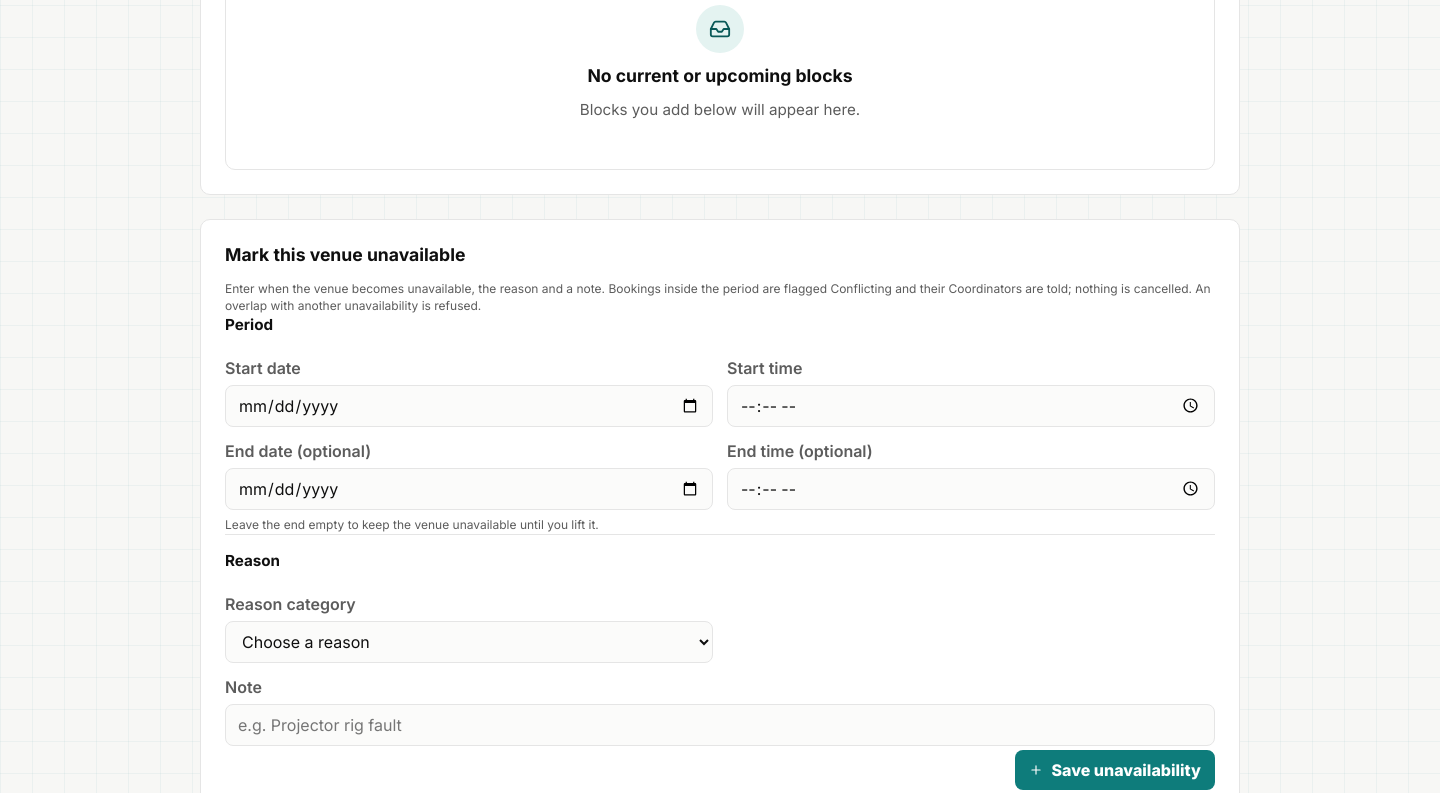
Test: TC_E05S04_02 superseded by TC_E05S06_02: saving over a confirmed booking succeeds instead of being refused (T-67)
(page scrolled)
Check: the text "No current or upcoming blocks" is shown, box [587,65,853,86]
In the date field labelled "Start date": (469, 406) [225,385,713,427], type "2027-01-14"
In the time field labelled "Start time": (971, 406) [727,385,1215,427], type "00:00"
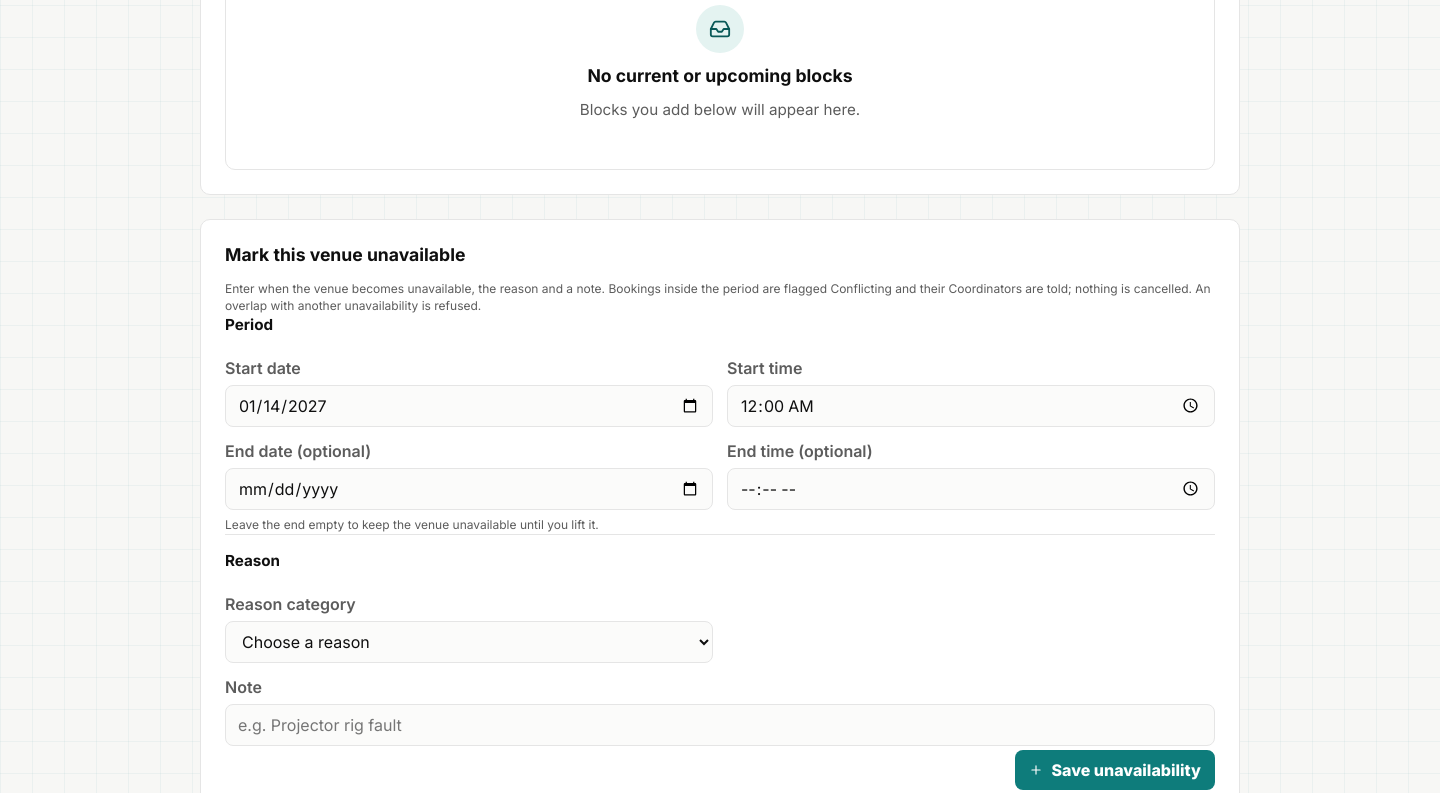
In the date field labelled "End date (optional)": (469, 489) [225,468,713,510], type "2027-01-17"
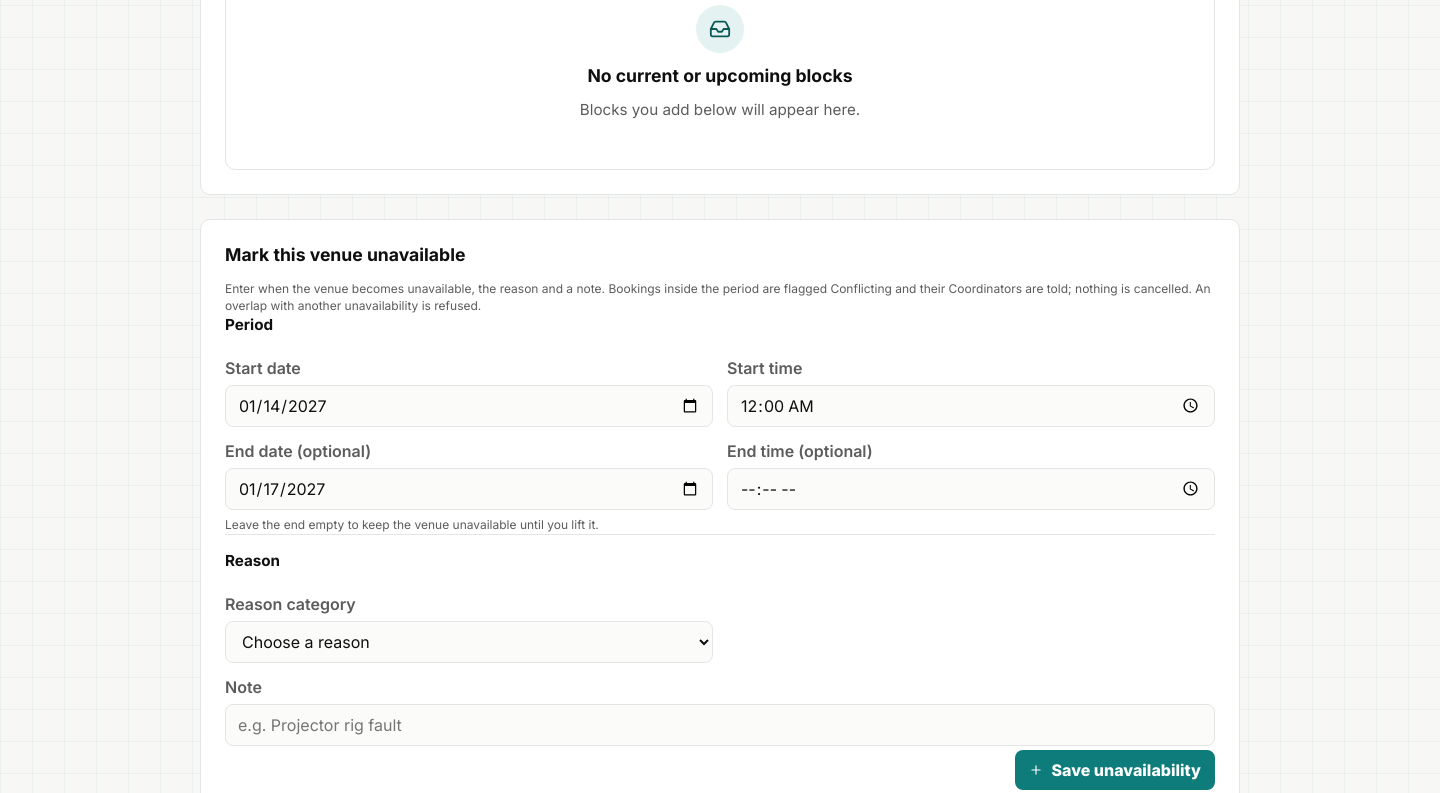
In the time field labelled "End time (optional)": (971, 489) [727,468,1215,510], type "00:00"
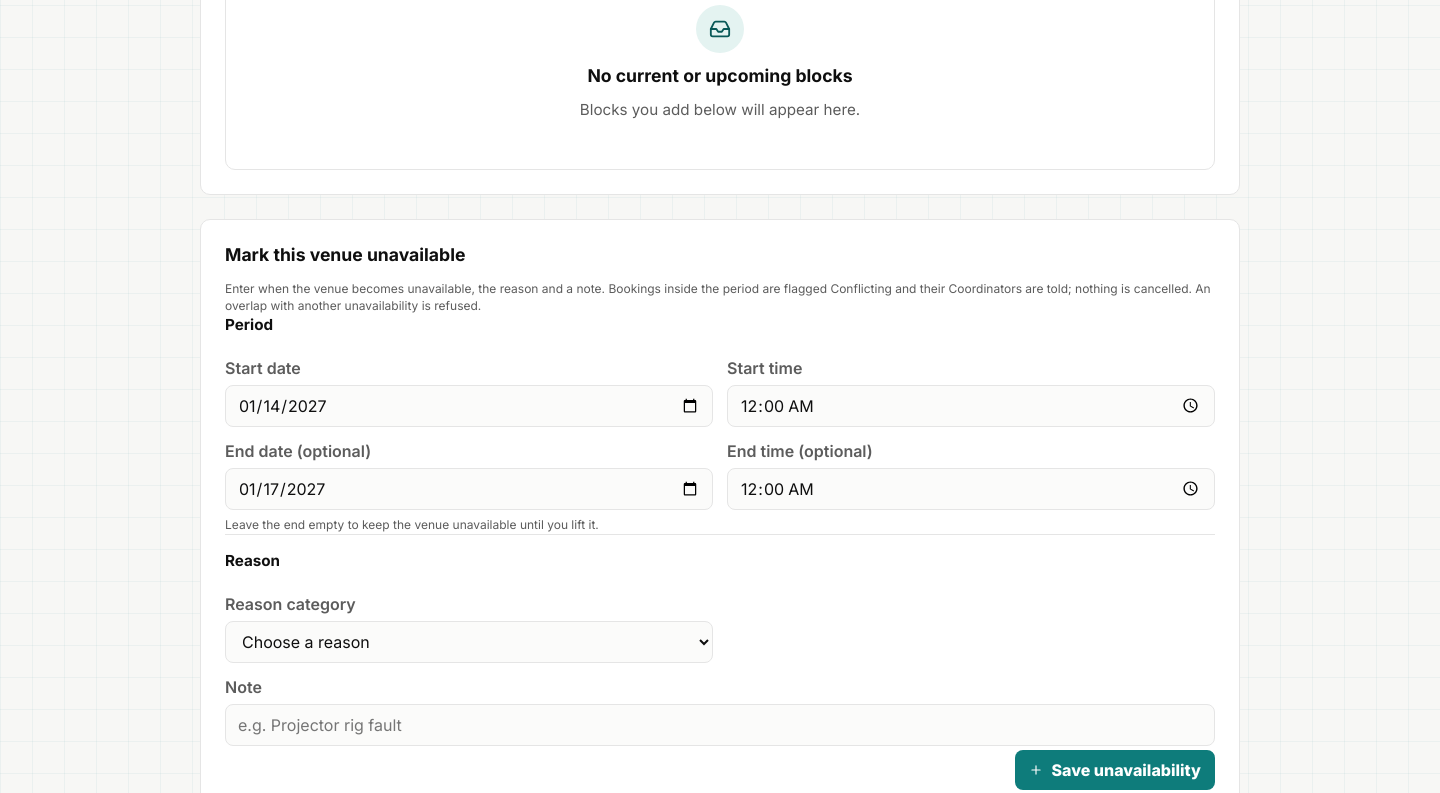
Select "Renovation" in the dropdown labelled "Reason category": (469, 642) [225,620,713,662]
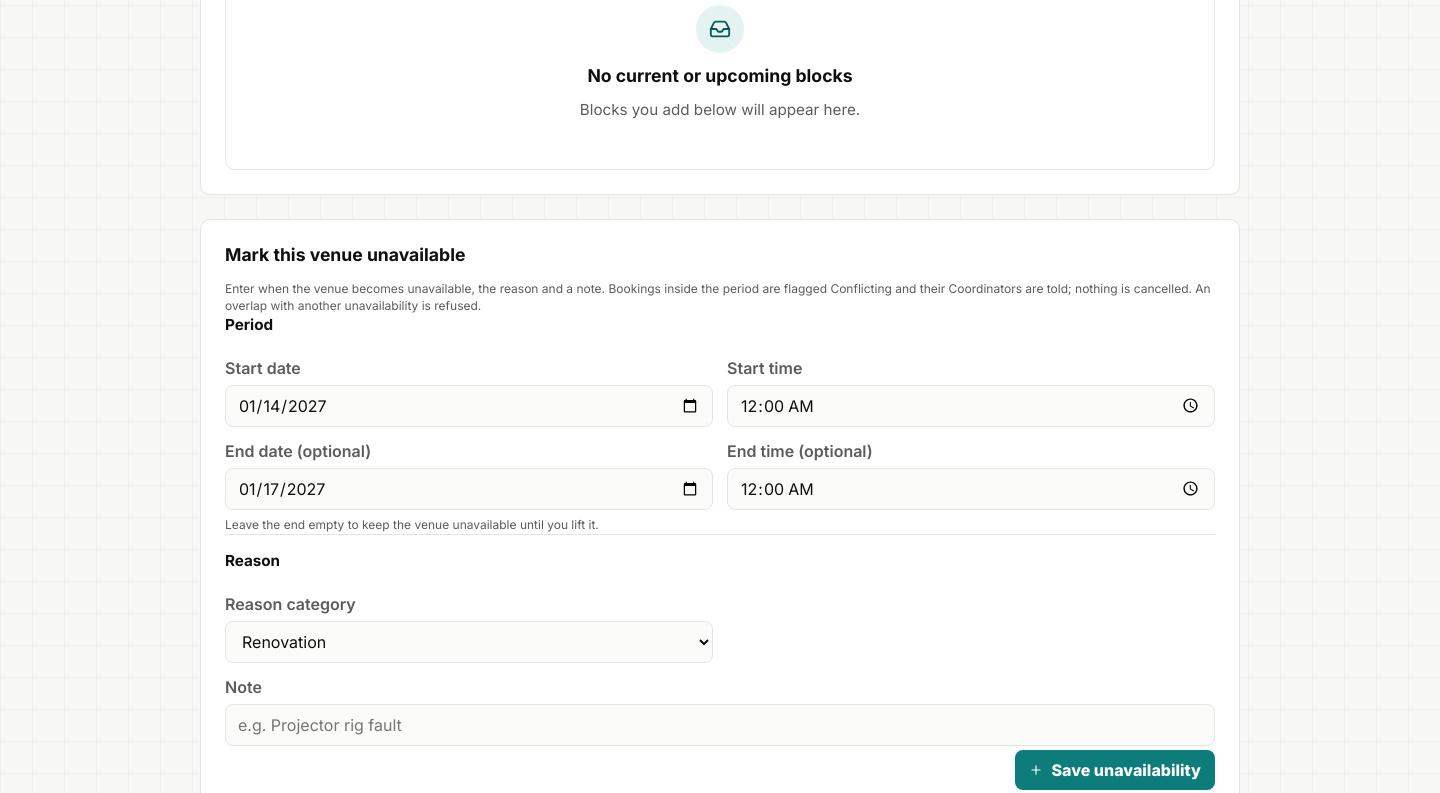
In the field labelled "Note": (720, 724) [225,704,1215,746], type "Flooring replacement"
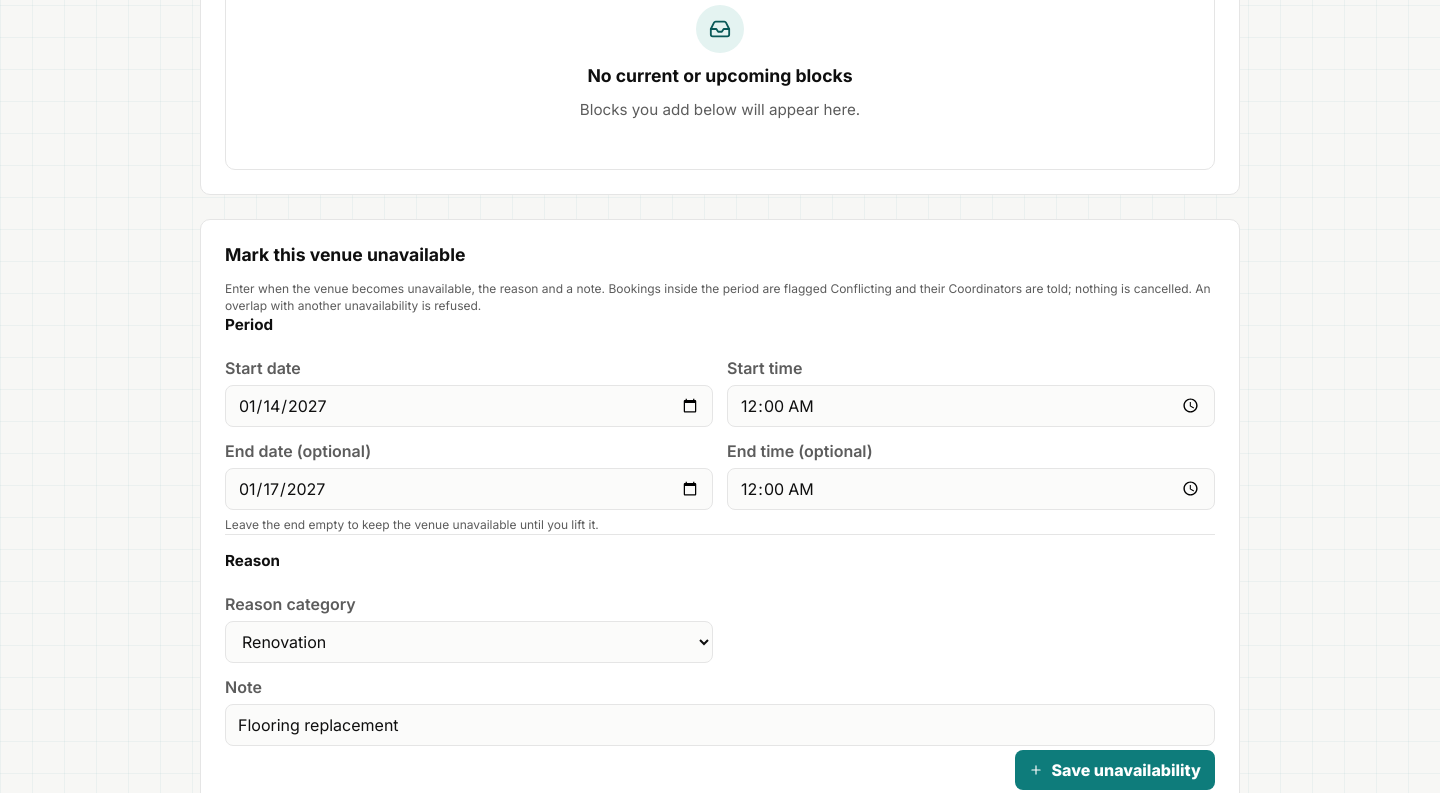
Click the button "Save unavailability": (1115, 770) [1016,750,1215,790]
(page scrolled)
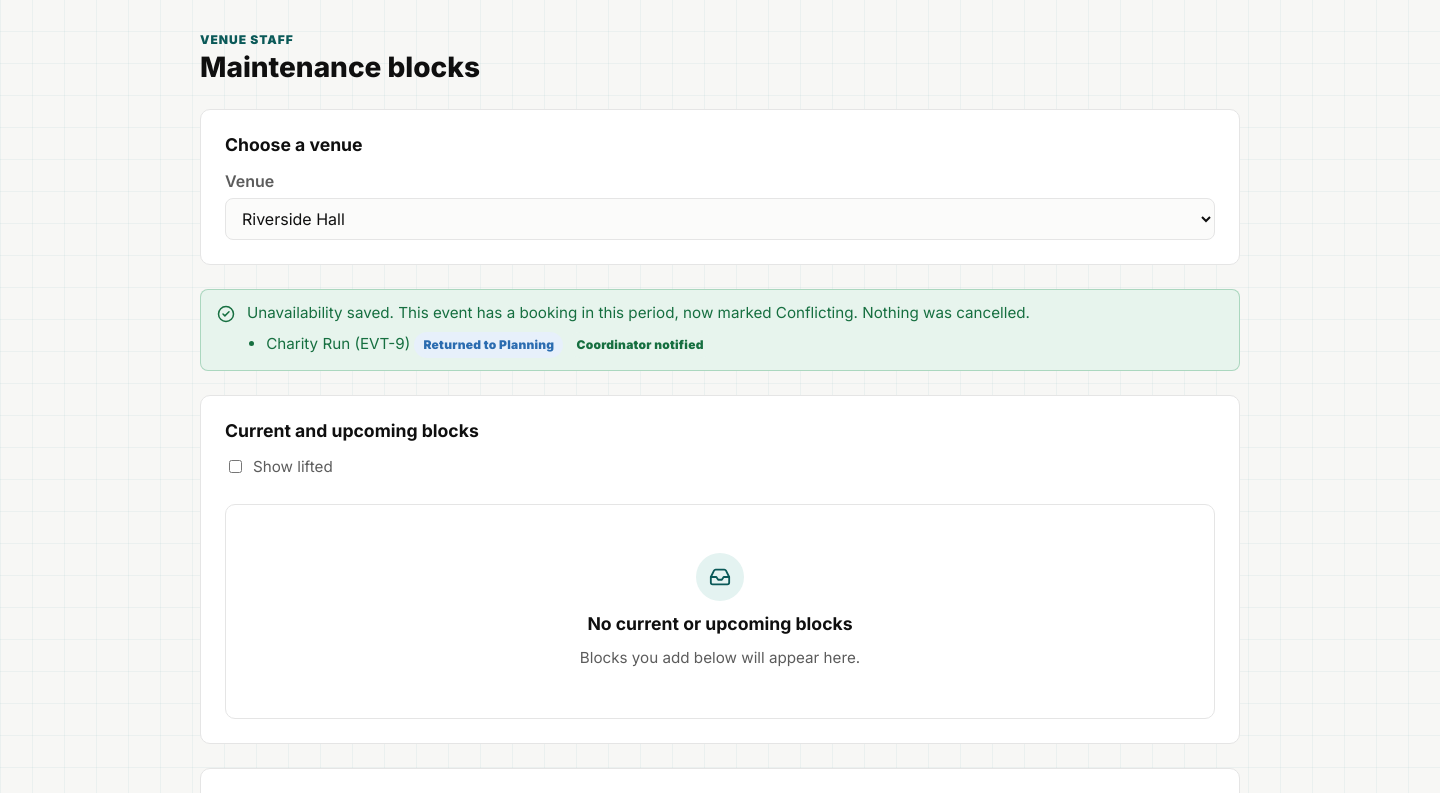
Check: the text "This event has a booking in this period, now marked Conflicting. Nothing was cancelled." is shown, box [247,303,1030,322]
Check: the list named "Affected events" shows "Charity Run (EVT-9)", box [266,334,410,353]
